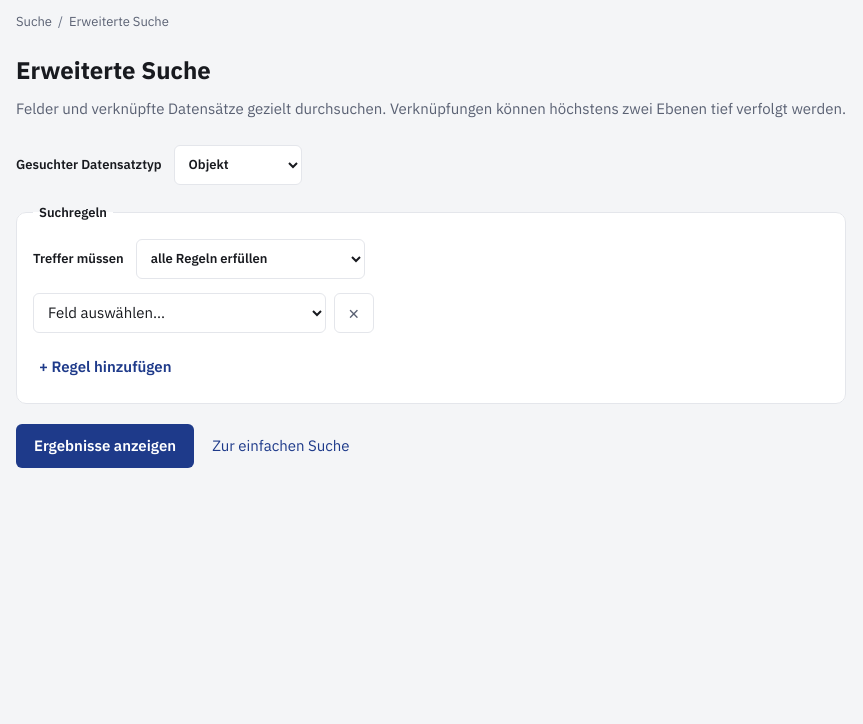
Test: AdvancedSearchPage › offers free relation types and nests conditions on their target
The image size is (863, 724).
Step 1. Select "Absendeort → Ort" in the dropdown named "Feld" → x=179, y=313, box [33, 293, 326, 333]
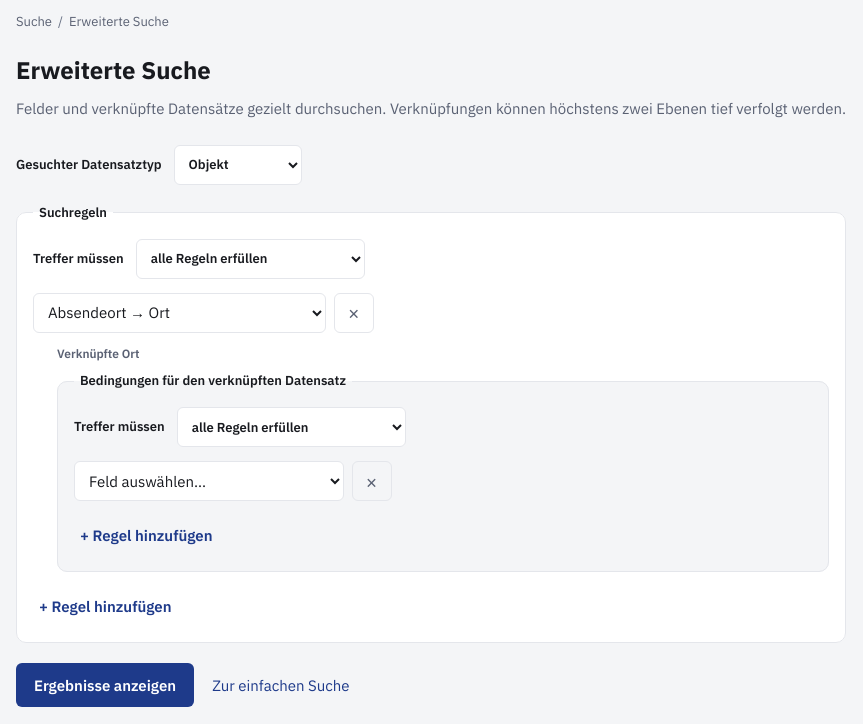
Result: the number of dropdowns named "Feld" is 2 at [33, 293, 326, 333]; [74, 462, 344, 502]
